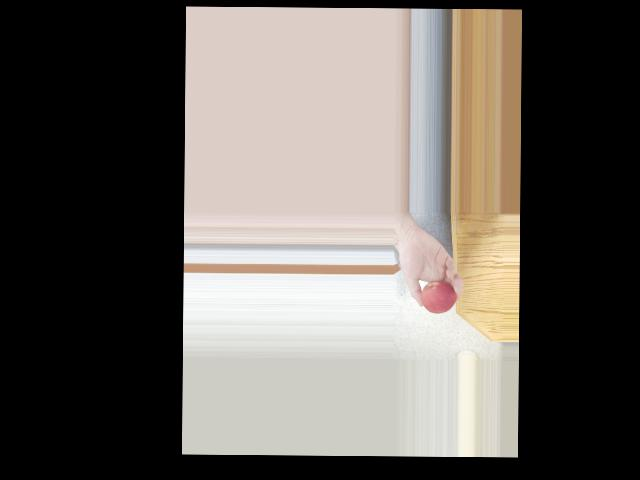apple: (417, 275, 456, 314)
